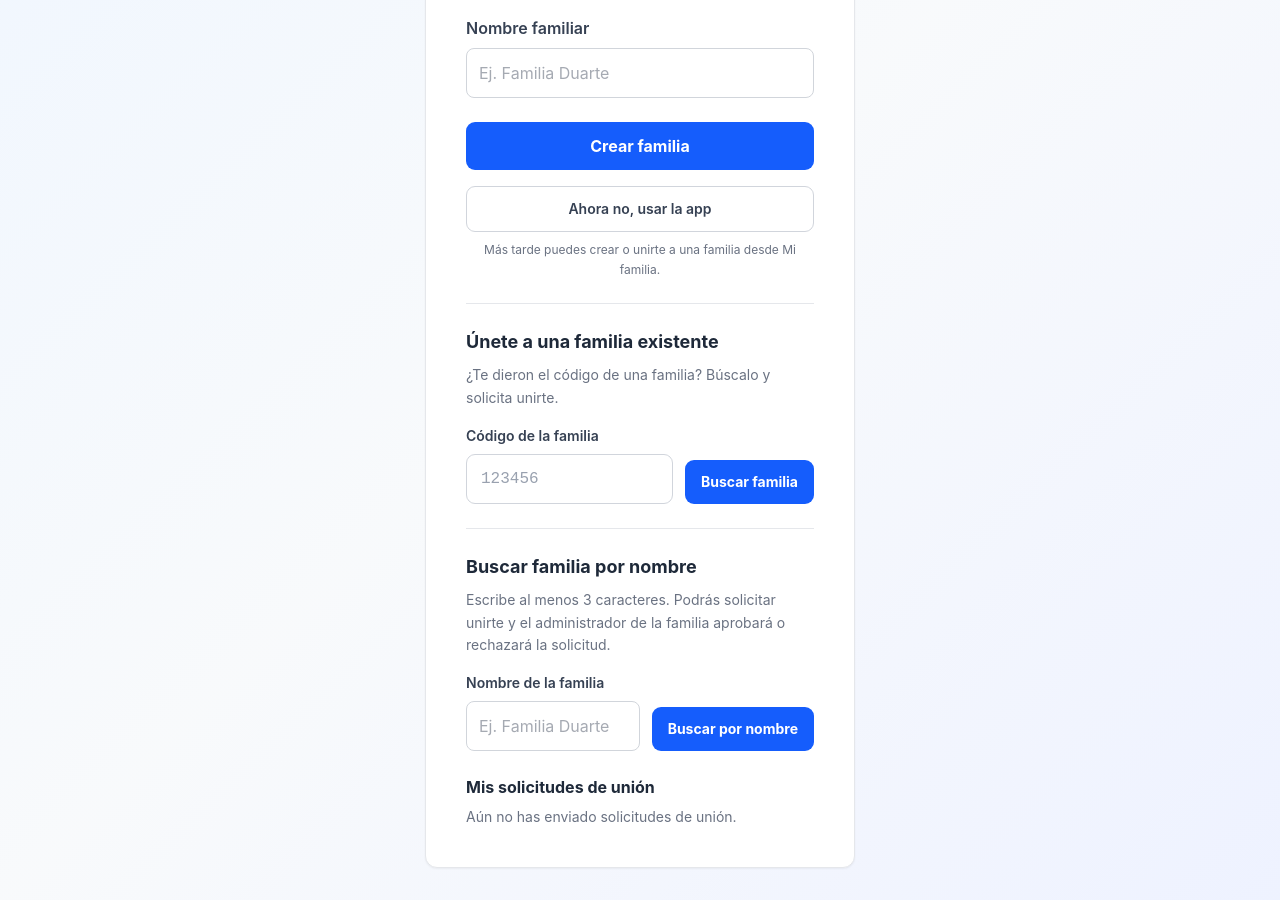
Test: HogarPendiente › muestra el estado vacío cuando el nombre no coincide con ninguna familia
The image size is (1280, 900).
(page scrolled)
Type "Zzzzzzz" into the search field labelled "Nombre de la familia".
click(553, 726); type("Zzzzzzz")  # box 466,701 -> 640,751
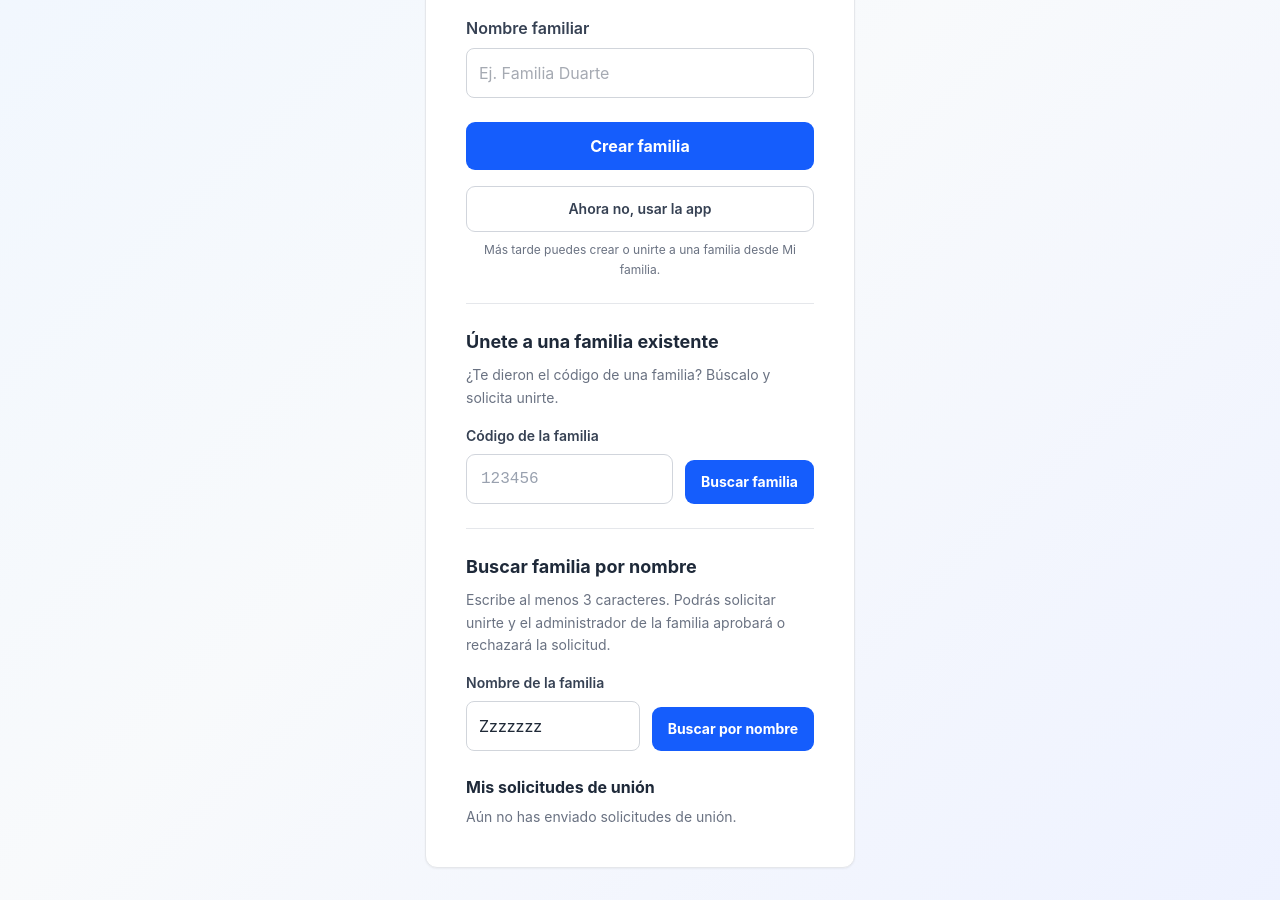
Click the button "Buscar por nombre".
click(733, 729)  # box 652,707 -> 814,751
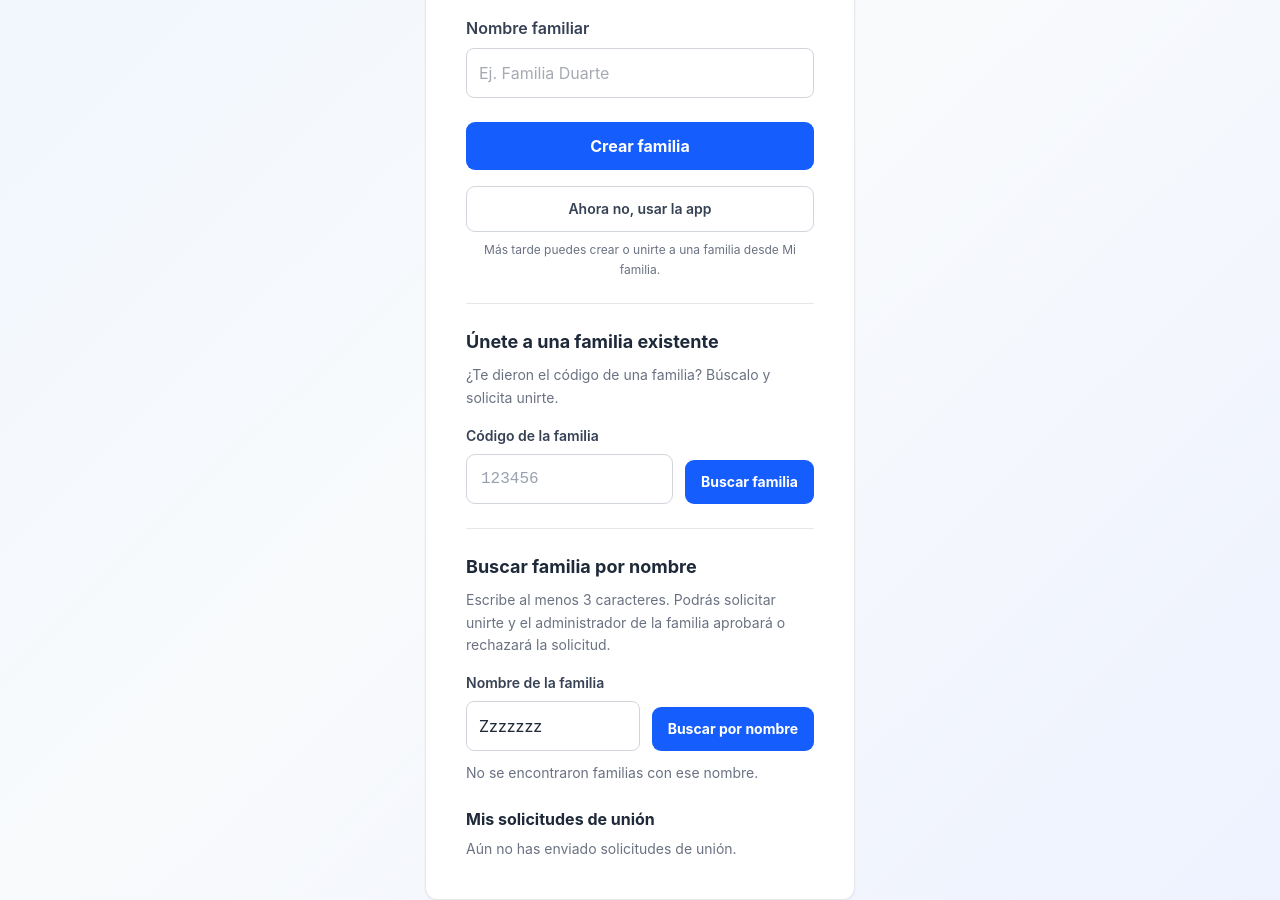
Now the text "No se encontraron familias con ese nombre." is shown, box 466,764 -> 758,781
